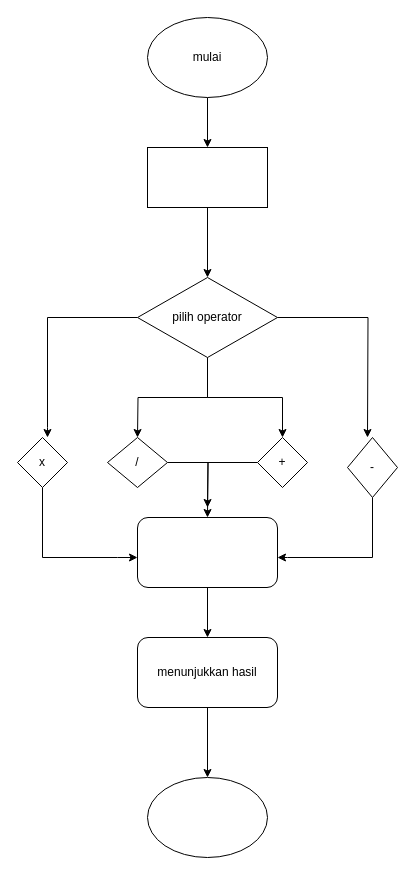
Image size: 415x875. Some labels were removed from this diagram. Here are the shapes that lost their labels. From the top down, the box of each, then its label:
(146, 146, 268, 208): input angka 1
(136, 516, 278, 588): input angka 2
(146, 776, 268, 858): selesai
